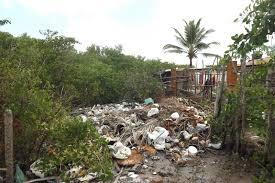rubble: (94, 100, 218, 159)
